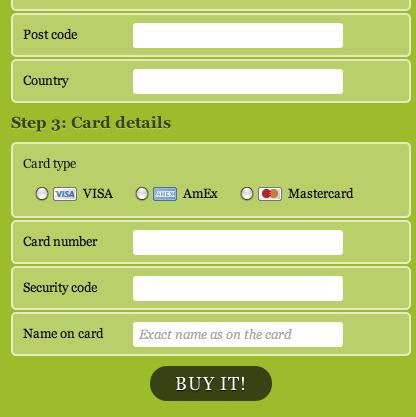button: (145, 361, 275, 404)
field: (128, 226, 348, 259), (129, 65, 345, 98), (128, 19, 346, 51), (125, 273, 349, 304), (127, 320, 346, 350)
field_with_label: (22, 223, 351, 260), (24, 17, 348, 54), (21, 270, 353, 306), (22, 63, 347, 99), (22, 317, 349, 352)
radio: (33, 185, 53, 202), (239, 183, 253, 205), (135, 183, 150, 202)
